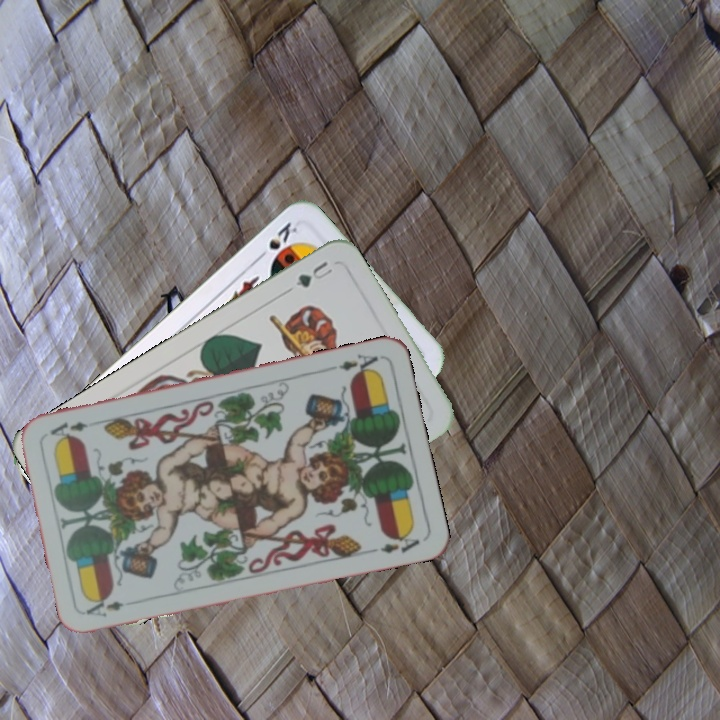EA: (325, 350, 381, 378), (82, 596, 127, 620)
GU: (291, 257, 336, 291)
SK: (252, 217, 300, 266)
